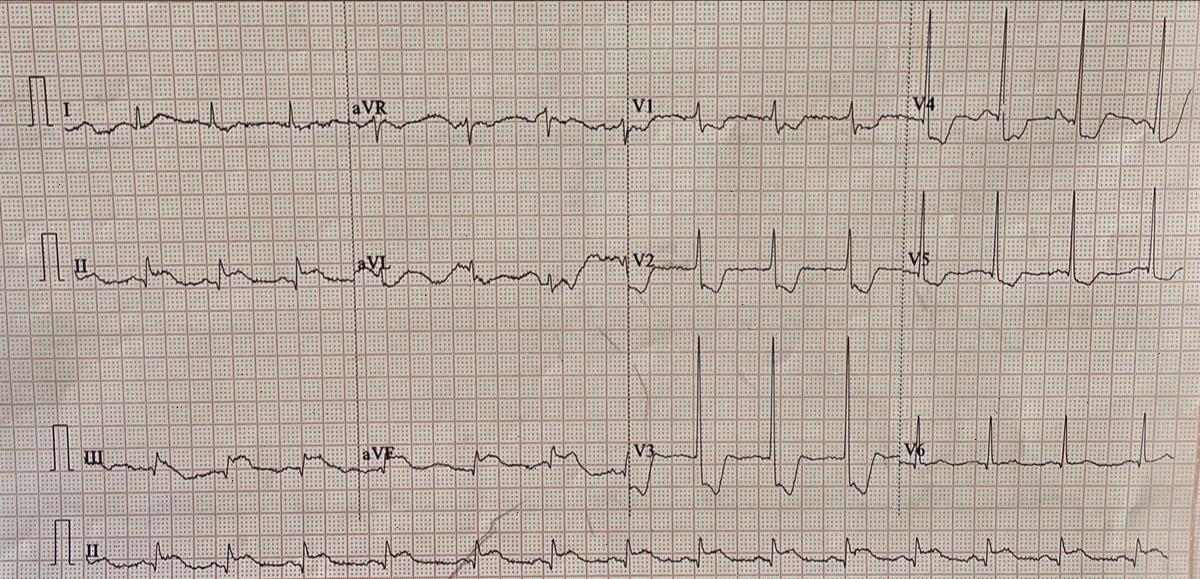Lead_I: (54, 88, 350, 166)
Lead_II: (62, 231, 354, 318)
Lead_III: (78, 426, 359, 492)
Lead_II_ext: (74, 514, 1172, 578)
Lead_V1: (628, 72, 894, 161)
Lead_V2: (628, 212, 904, 317)
Lead_V3: (629, 319, 900, 506)
Lead_V4: (904, 0, 1200, 172)
Lead_V5: (905, 166, 1190, 313)
Lead_V6: (899, 390, 1179, 488)
Lead_aVF: (356, 424, 629, 498)
Lead_aVL: (354, 228, 624, 305)
Lead_aVR: (351, 88, 627, 158)
